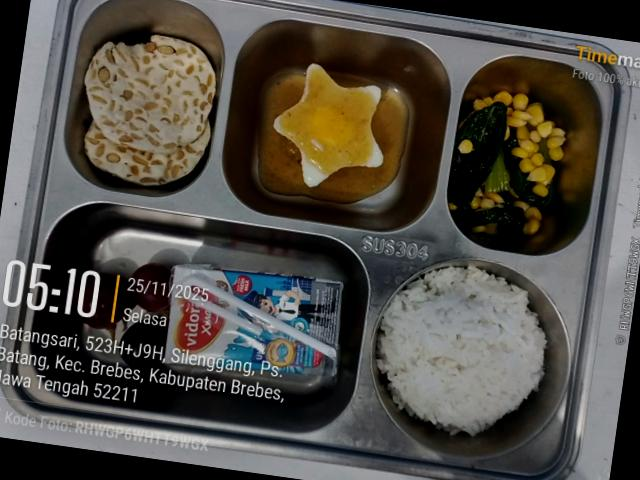buah: (72, 264, 171, 348)
nasi: (377, 267, 546, 436)
sayur: (447, 90, 566, 242)
susu: (165, 264, 343, 386)
telur: (274, 64, 382, 186)
tempe: (84, 35, 216, 186)
